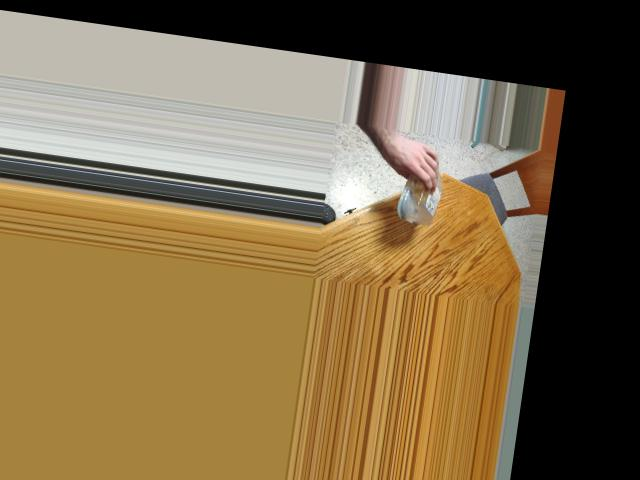cheese: (393, 155, 447, 215)
